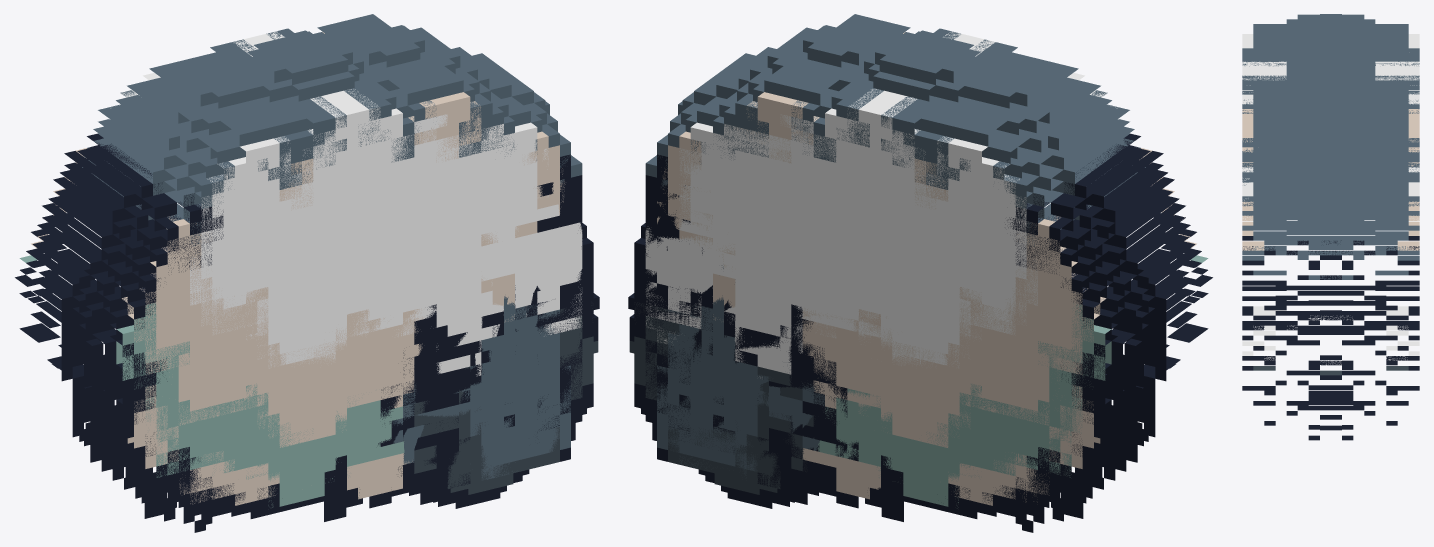
Rendered from ovelha_pastando.glb.
3 views of the same model, side by side, from view 1: azimuth 30°, elevation 25°; view 2: azimuth 150°, elevation 25°; view 3: azimuth 270°, elevation 25° (orthographic). The views are drawn at different scales.
Parts seen in each view (by area): view 1: q0, q1, q11, q2, q3, q4, q5, q6, q7; view 2: q0, q1, q2, q11, q3, q4, q5, q6, q7; view 3: q0, q11, q4, q3, q2, q1, q5, q6, q7.
Boxes of the visible parts, x1=… form: q0: x1=31, y1=17, x2=582, y2=525; q1: x1=15, y1=94, x2=593, y2=532; q11: x1=50, y1=14, x2=593, y2=499; q2: x1=30, y1=49, x2=599, y2=524; q3: x1=19, y1=124, x2=593, y2=516; q4: x1=30, y1=56, x2=581, y2=518; q5: x1=19, y1=118, x2=582, y2=506; q6: x1=32, y1=48, x2=580, y2=498; q7: x1=112, y1=117, x2=598, y2=479; q0: x1=645, y1=17, x2=1196, y2=525; q1: x1=634, y1=95, x2=1212, y2=532; q2: x1=628, y1=49, x2=1197, y2=523; q11: x1=634, y1=14, x2=1177, y2=510; q3: x1=634, y1=123, x2=1208, y2=516; q4: x1=645, y1=56, x2=1197, y2=518; q5: x1=645, y1=124, x2=1208, y2=514; q6: x1=664, y1=48, x2=1195, y2=496; q7: x1=629, y1=117, x2=1116, y2=477; q0: x1=1242, y1=14, x2=1419, y2=389; q11: x1=1242, y1=18, x2=1419, y2=405; q4: x1=1242, y1=60, x2=1419, y2=349; q3: x1=1242, y1=75, x2=1419, y2=415; q2: x1=1242, y1=47, x2=1419, y2=429; q1: x1=1242, y1=90, x2=1419, y2=440; q5: x1=1242, y1=75, x2=1419, y2=259; q6: x1=1242, y1=108, x2=1419, y2=345; q7: x1=1242, y1=176, x2=1419, y2=410.
Bounding box in the file's own units: 48 × 40 × 16.
1 material, 1 textured.
